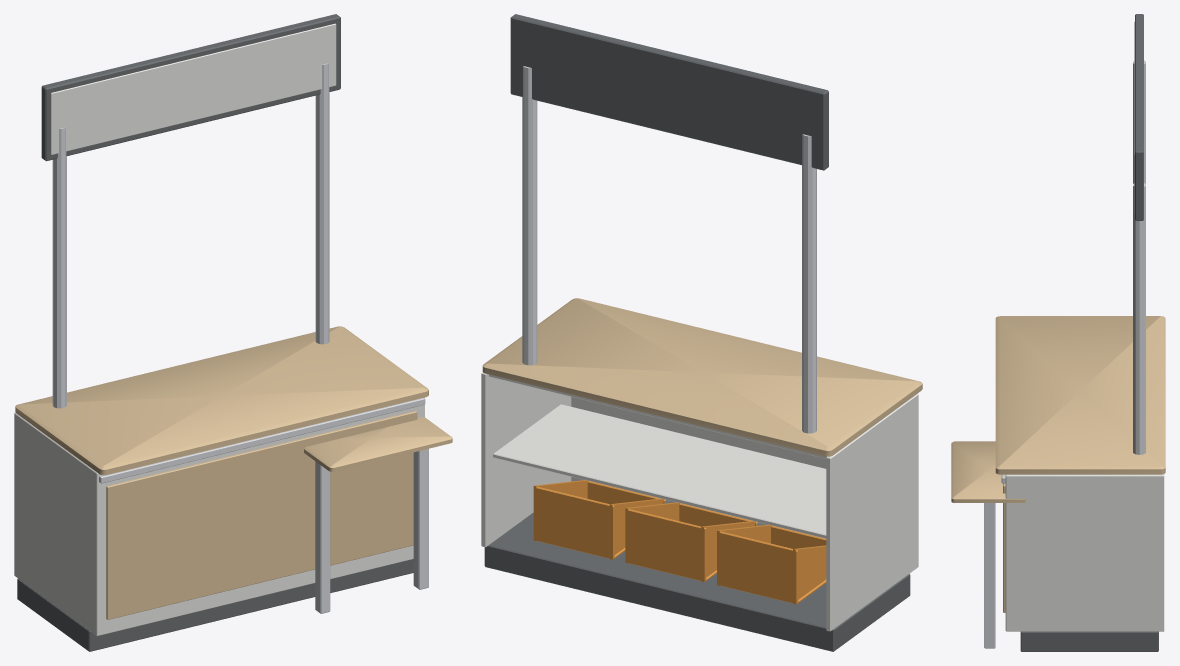
3 views of the same model, side by side, from view 1: azimuth 30°, elevation 25°; view 2: azimuth 150°, elevation 25°; view 3: azimuth 270°, elevation 25° (orthographic). The views are drawn at different scales.
Visible parts, largest first — view 1: returns-desk; view 2: returns-desk; view 3: returns-desk.
Part boxes in pixels (left/top/right/bottom): returns-desk: left=14, top=14, right=452, bottom=651; returns-desk: left=481, top=14, right=922, bottom=651; returns-desk: left=951, top=14, right=1165, bottom=651.
Bounding box in the file's own units: 1.6 × 2.4 × 0.945.
